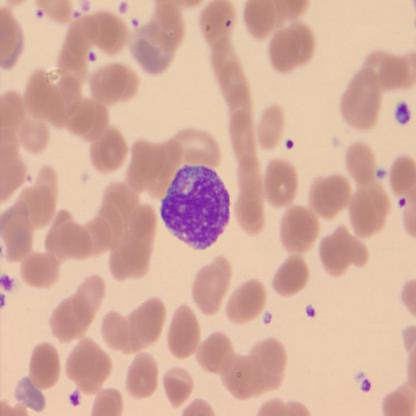Myelocyte: (162, 163, 231, 252)
